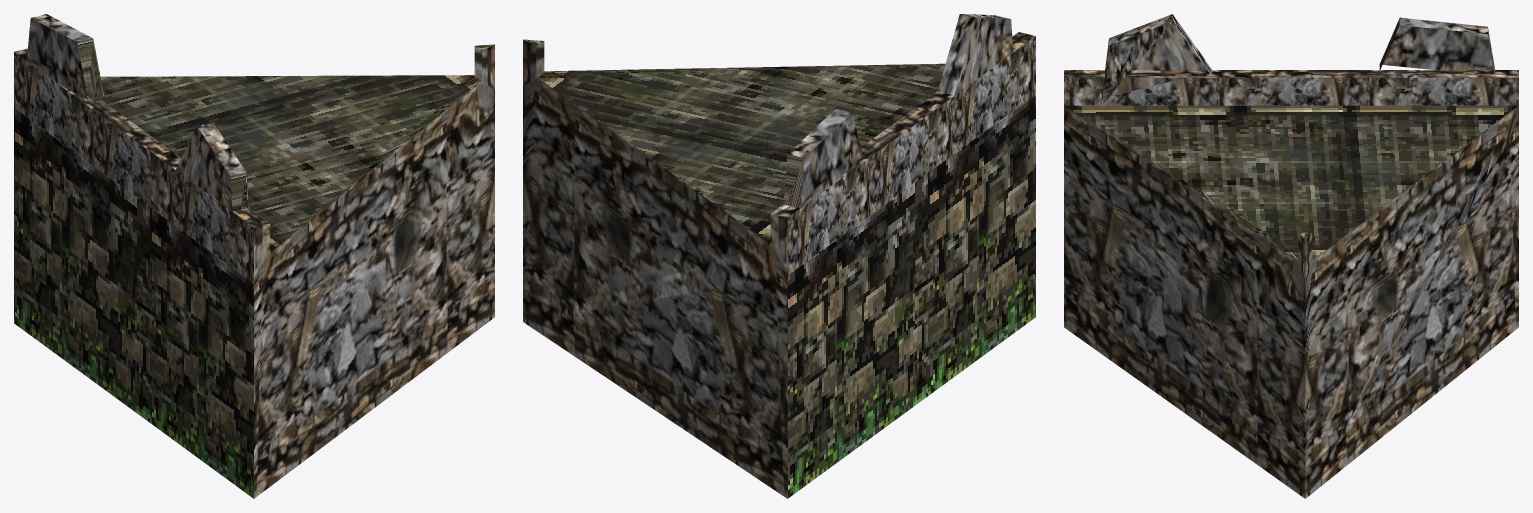
Rendered from Civilian - Civilian Building - Fortress Wall 45 Degree - CMWalAkml6_E.glb.
The picture shows the model from 3 angles, left to right: view 1: azimuth 30°, elevation 25°; view 2: azimuth 150°, elevation 25°; view 3: azimuth 270°, elevation 25°; orthographic projection. The views are drawn at different scales.
Parts seen in each view (by area): view 1: CMWALAKML6_E; view 2: CMWALAKML6_E; view 3: CMWALAKML6_E.
Part boxes in pixels (x1,y1,x2,y2): CMWALAKML6_E: (14,14,494,498); CMWALAKML6_E: (523,14,1035,498); CMWALAKML6_E: (1064,14,1518,498).
Bounding box in the file's own units: 51.94 × 44.75 × 58.6.
Materials: 4 (4 with a texture image).
